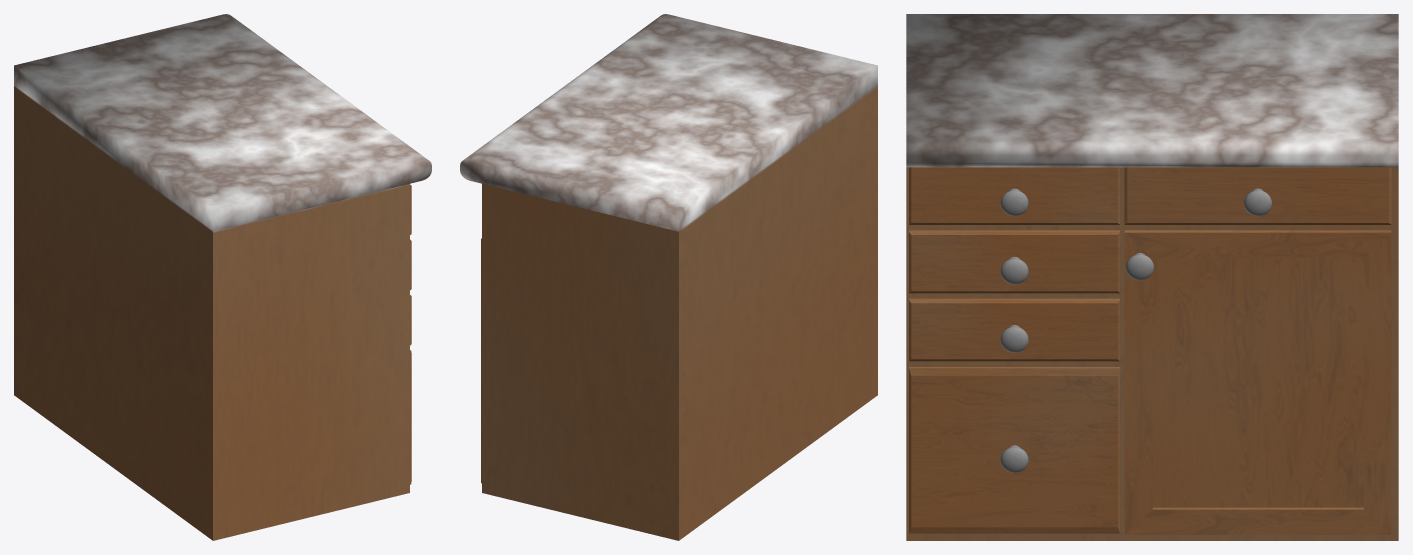
The model's file is CounterCabinet_duo-sextuple.glb.
The picture shows the model from 3 angles, left to right: view 1: azimuth 30°, elevation 25°; view 2: azimuth 150°, elevation 25°; view 3: azimuth 270°, elevation 25°; orthographic projection. The views are drawn at different scales.
Parts seen in each view (by area): view 1: mesh; view 2: mesh; view 3: mesh.
Boxes of the visible parts, box(x1,y1,x2,y2) form: mesh: box(14, 14, 431, 540); mesh: box(460, 14, 877, 540); mesh: box(906, 14, 1398, 540).
Bounding box in the file's own units: 2.23 × 3.2 × 3.5.
Materials: 1 (1 with a texture image).
